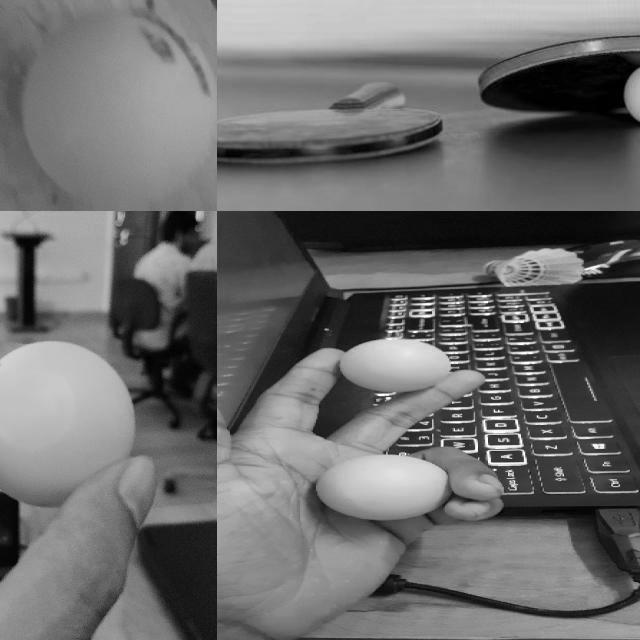ping-pong-ball: (19, 8, 215, 206), (0, 340, 136, 508), (318, 454, 446, 519), (339, 338, 451, 391), (624, 63, 639, 127)
